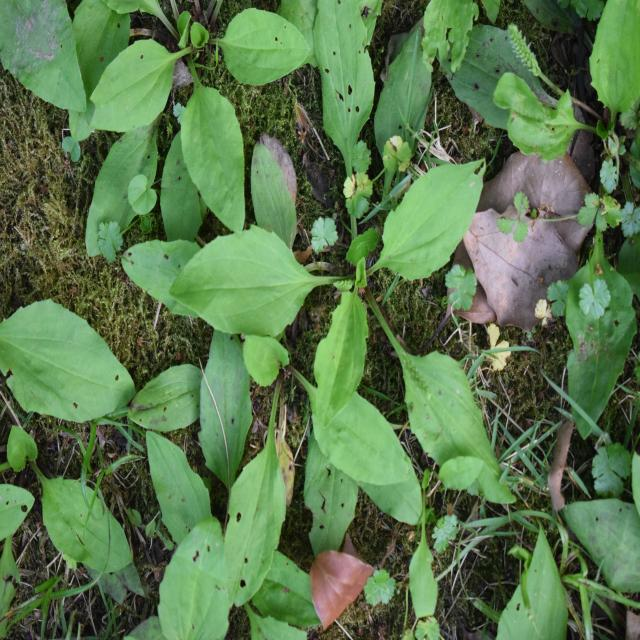plantain: (223, 49, 490, 510)
